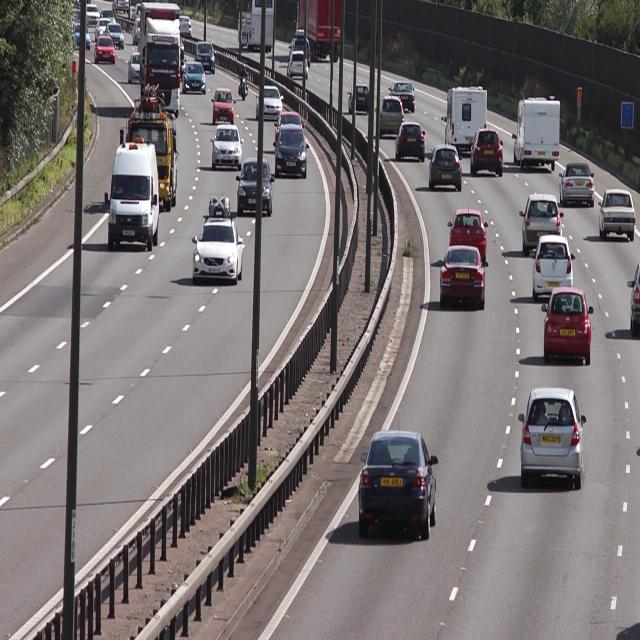Vehicle: (356, 431, 439, 539), (517, 386, 586, 488), (105, 138, 158, 251), (188, 196, 244, 286), (140, 2, 182, 118), (540, 288, 594, 366), (509, 92, 562, 170), (436, 247, 488, 313), (441, 83, 488, 152), (530, 235, 575, 302), (519, 192, 563, 254), (445, 206, 488, 268), (235, 157, 270, 217), (599, 186, 635, 243), (425, 145, 464, 192), (470, 129, 506, 178), (274, 122, 306, 177), (558, 160, 594, 205), (212, 124, 244, 171), (374, 95, 406, 139), (394, 118, 424, 164), (388, 74, 421, 113), (254, 88, 282, 120), (345, 83, 371, 115), (209, 90, 234, 122), (195, 37, 214, 75), (184, 61, 207, 91), (93, 36, 115, 65)
